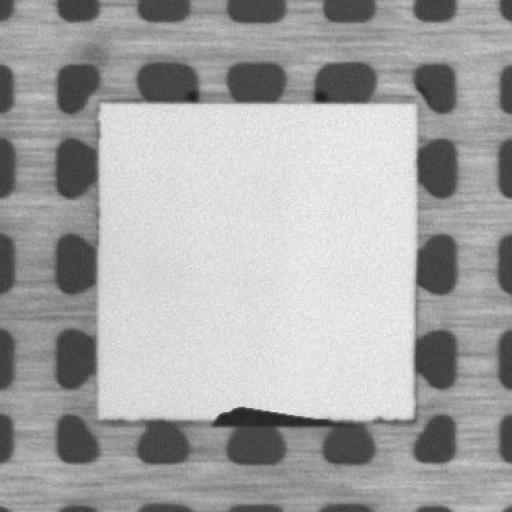DIE_BROKEN: (204, 401, 332, 427)
